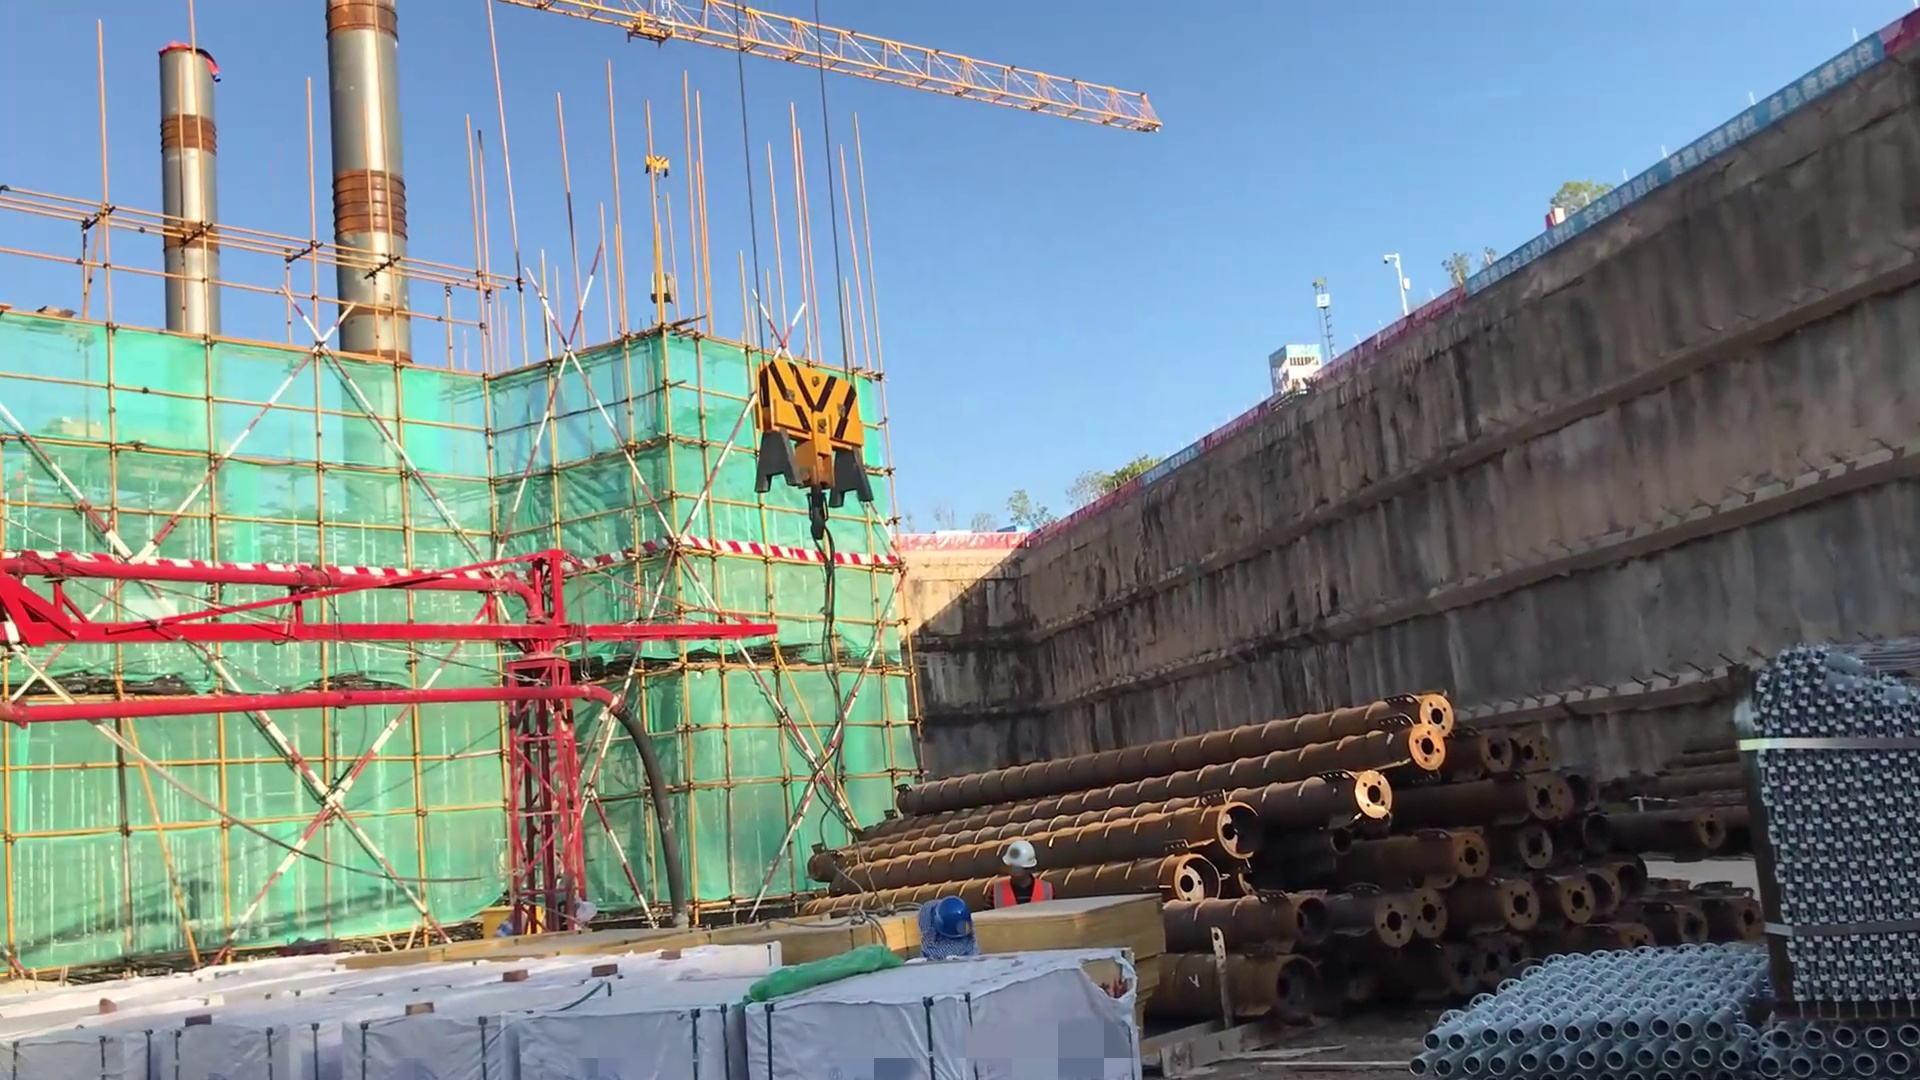board: (966, 906, 1174, 988)
ebox: (475, 905, 547, 945)
helmet: (918, 897, 975, 948), (987, 841, 1047, 872)
hook: (747, 341, 880, 535), (644, 148, 679, 191)
person: (977, 841, 1071, 923)
scaffold: (1727, 630, 1920, 1066), (1425, 938, 1780, 1080)
slogan: (1459, 12, 1920, 305), (1141, 439, 1220, 495)
vest: (983, 873, 1064, 927)
